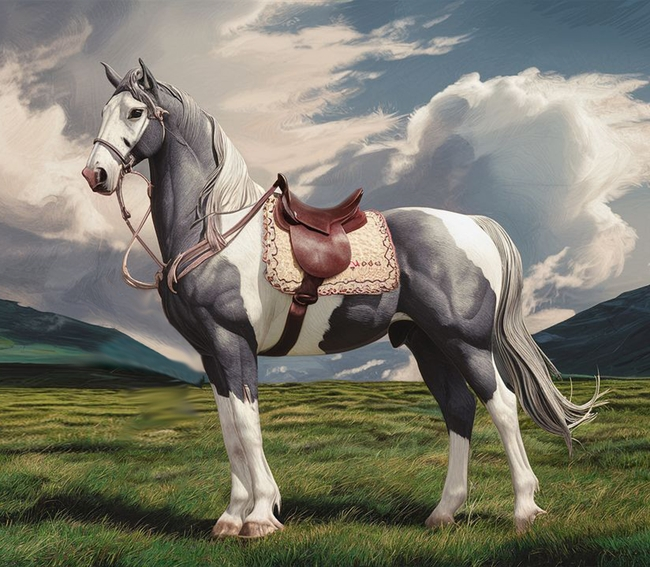horse: (83, 55, 595, 538)
